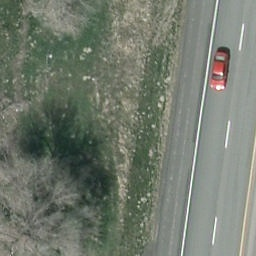car: (208, 54, 230, 90)
